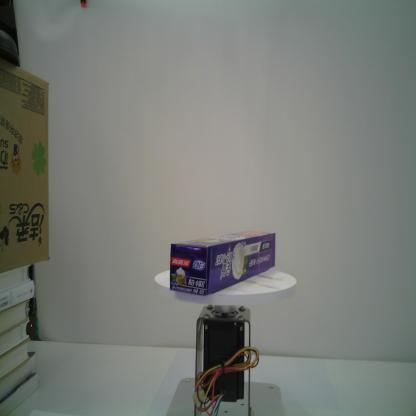Personal Hygiene: (169, 229, 277, 297)
